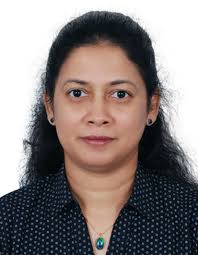middle_eastern_Female: (49, 34, 160, 168)
